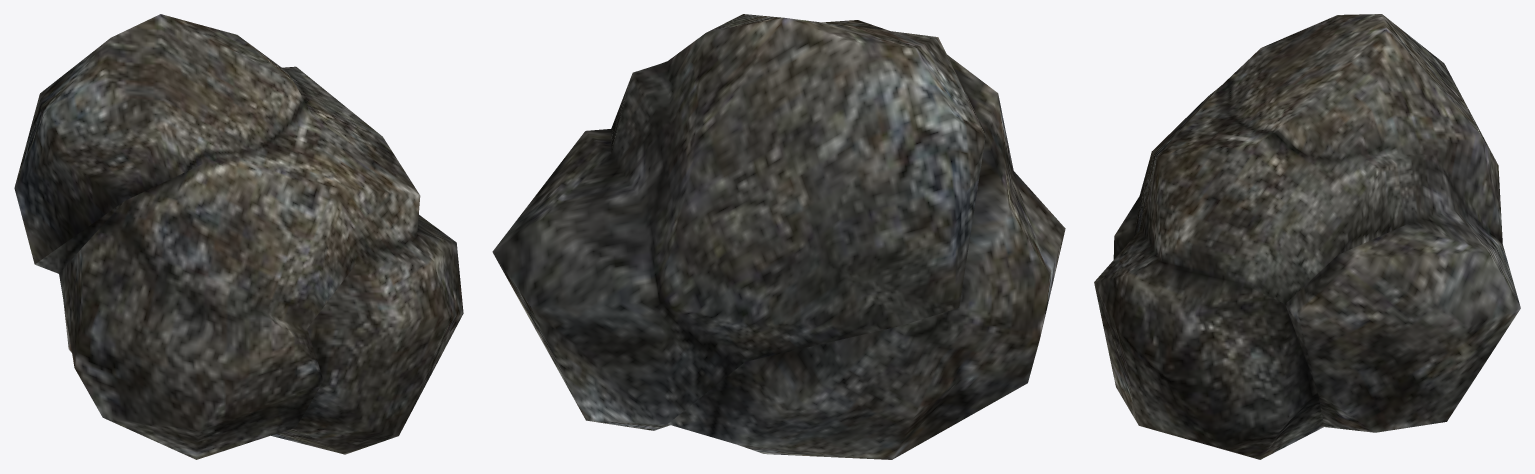
The model's file is Rock4A.fbx.
3 renders of one model, left to right at view 1: azimuth 30°, elevation 25°; view 2: azimuth 150°, elevation 25°; view 3: azimuth 270°, elevation 25°, orthographic. The views are drawn at different scales.
Visible parts, largest first — view 1: polySurface8; view 2: polySurface8; view 3: polySurface8.
Boxes of the visible parts, left/top/right/bottom form: polySurface8: left=14, top=14, right=463, bottom=459; polySurface8: left=492, top=14, right=1065, bottom=459; polySurface8: left=1094, top=14, right=1520, bottom=459.
Size of the model in its own units: 8.08 by 8.44 by 8.92.
